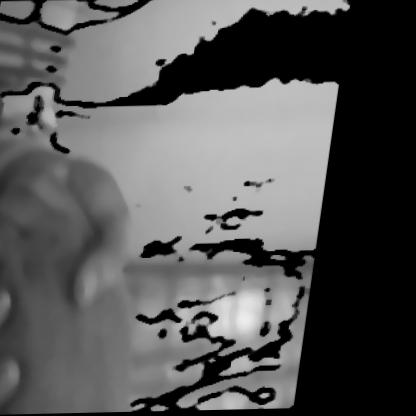handshake: (0, 95, 176, 414)
